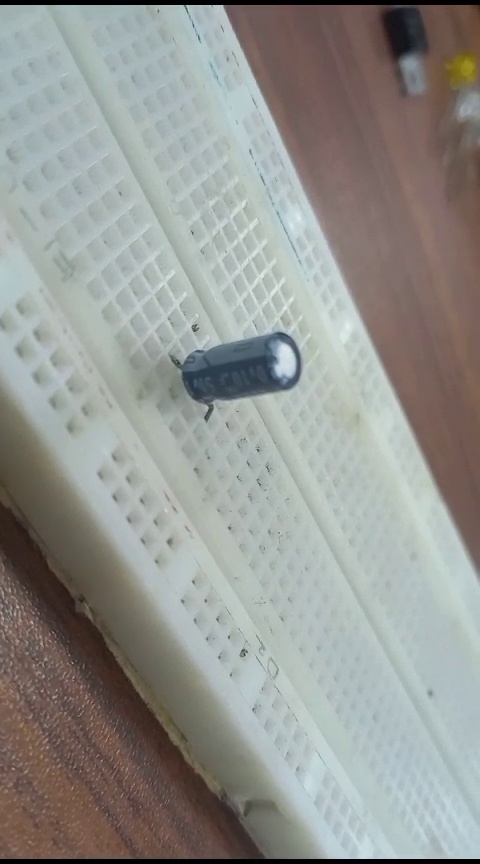capacitor: (164, 321, 303, 423)
